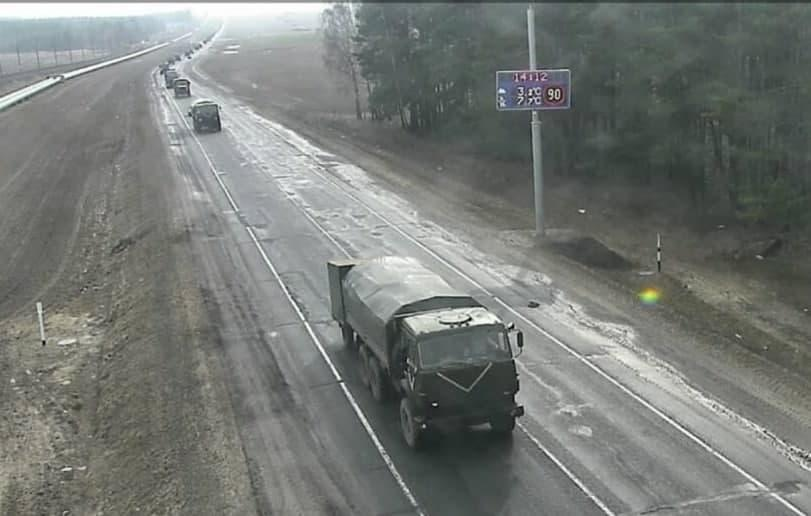truck: (312, 243, 534, 454), (189, 98, 224, 132), (171, 76, 196, 99)
